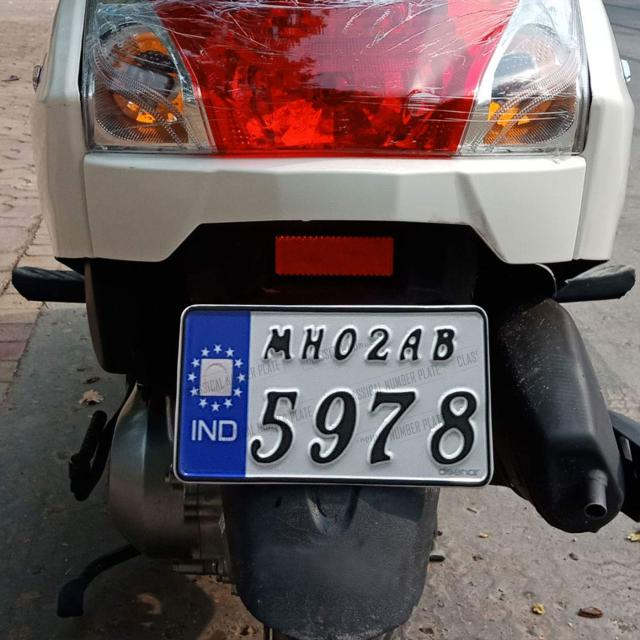license_plate: (172, 302, 493, 487)
